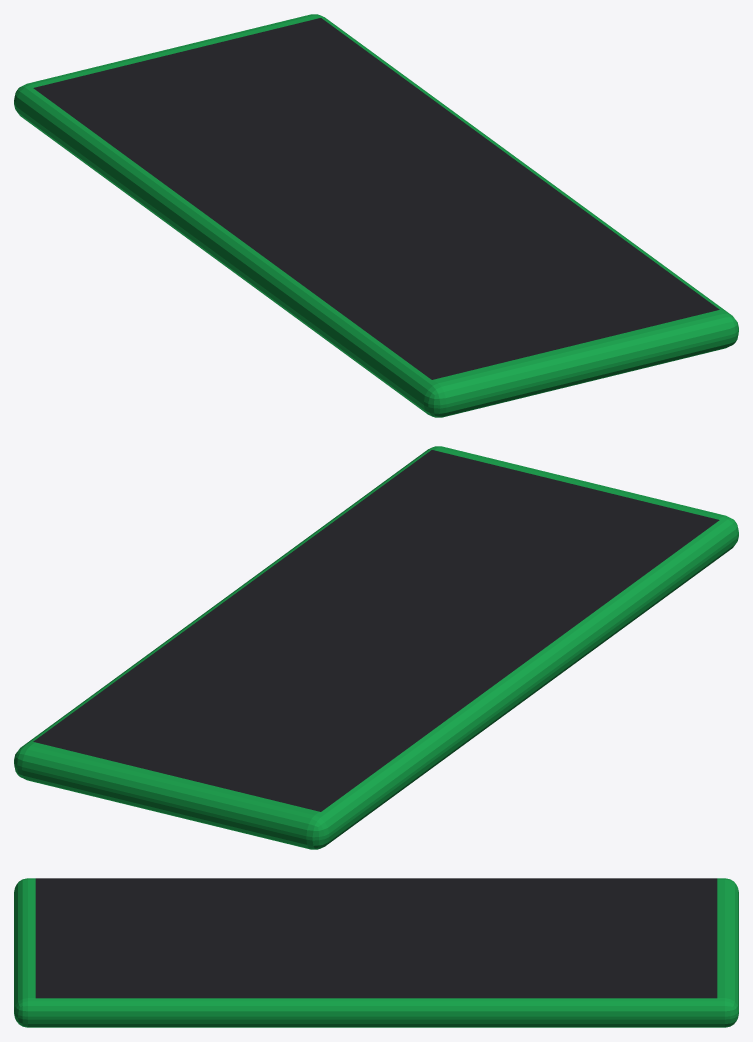
File: xiaomi-redmi-note-model-80-mid-range-2023.glb
3 renders of one model, top to bottom at view 1: azimuth 30°, elevation 25°; view 2: azimuth 150°, elevation 25°; view 3: azimuth 270°, elevation 25°, orthographic. The views are drawn at different scales.
Visible parts, largest first — view 1: Phone_Screen, Phone_Body; view 2: Phone_Screen, Phone_Body; view 3: Phone_Screen, Phone_Body.
Part boxes in pixels (x1=…): Phone_Screen: x1=33, y1=18, x2=719, y2=379; Phone_Body: x1=14, y1=14, x2=738, y2=417; Phone_Screen: x1=33, y1=450, x2=719, y2=811; Phone_Body: x1=14, y1=446, x2=738, y2=849; Phone_Screen: x1=35, y1=878, x2=717, y2=998; Phone_Body: x1=14, y1=878, x2=738, y2=1027.
Bounding box in the file's own units: 0.0709 × 0.0073 × 0.1665.
